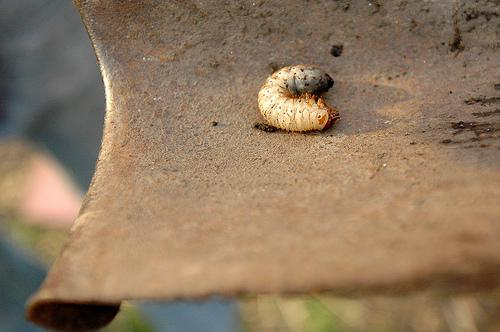grub: (256, 63, 341, 135)
